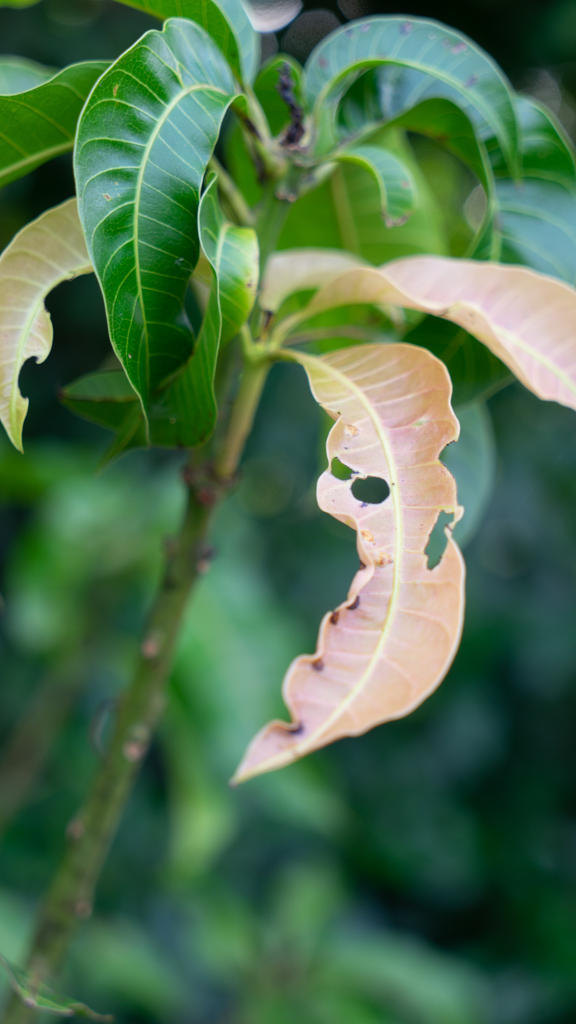Pepper yellow leaf: (206, 337, 472, 799), (279, 229, 576, 422)
